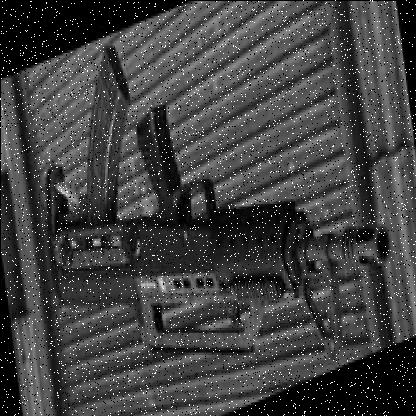rifle: (20, 0, 400, 416)
